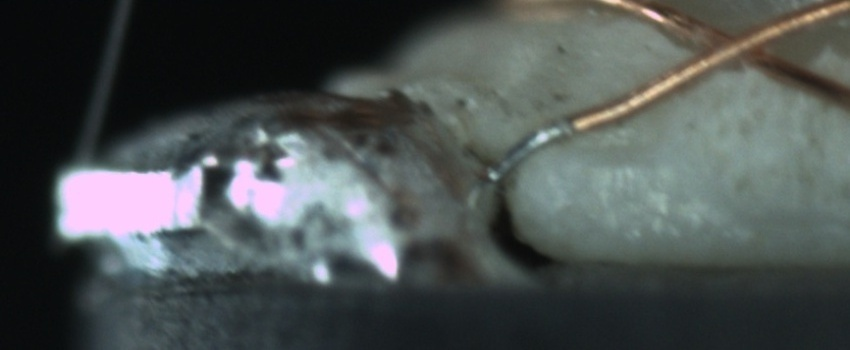CL: (666, 12, 802, 77)
DL: (566, 127, 663, 184)
TS: (485, 119, 575, 185)
TTCW: (486, 100, 623, 184)
